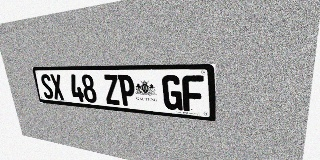4: (68, 74, 85, 102)
8: (80, 74, 97, 103)
F: (182, 75, 204, 113)
G: (162, 75, 183, 111)
P: (117, 75, 136, 107)
S: (39, 74, 54, 99)
X: (49, 74, 65, 100)
Z: (103, 75, 121, 105)
